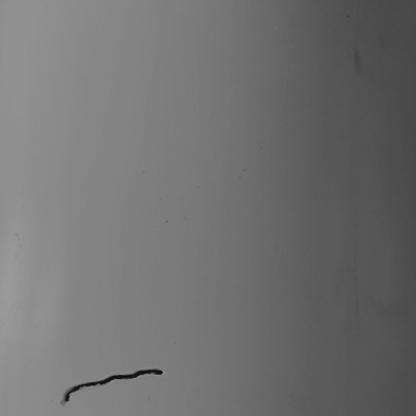fengxi: (60, 369, 164, 403)
